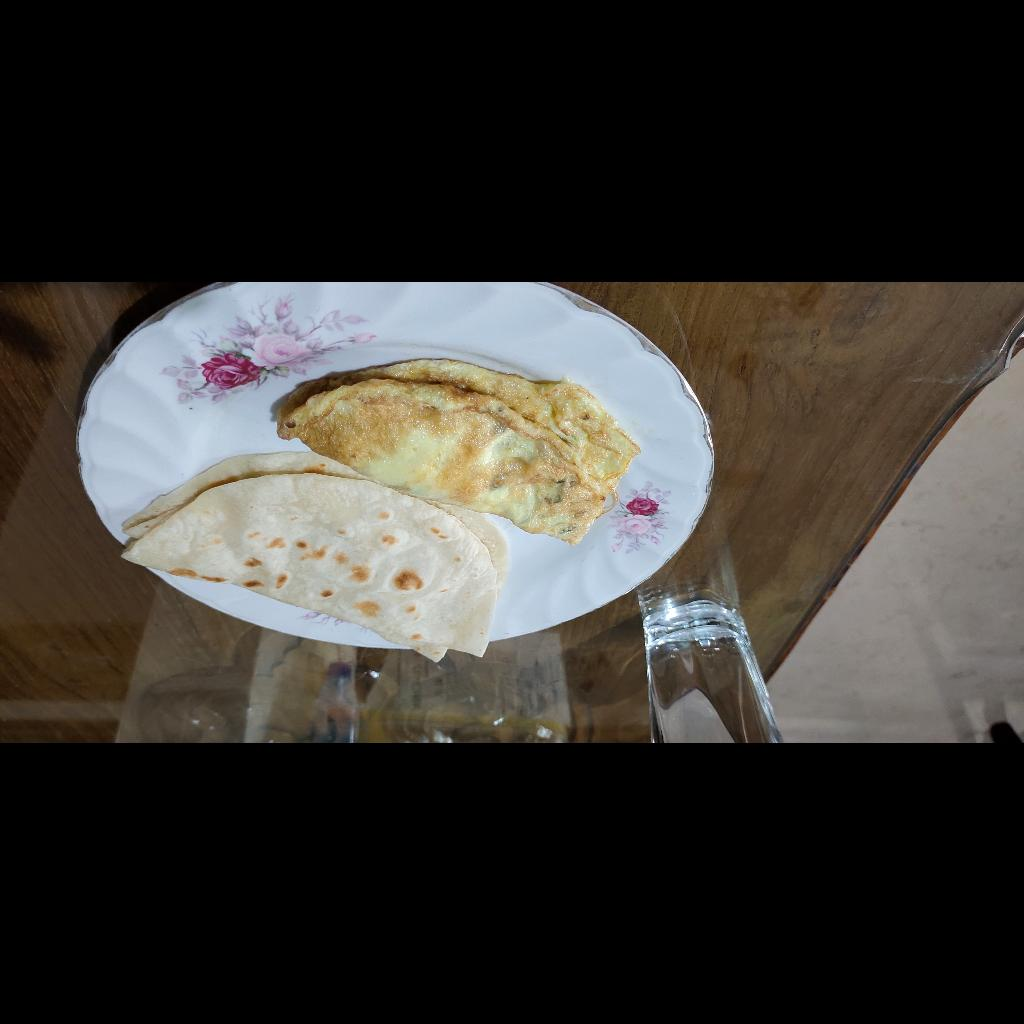egg-poached: (379, 478, 745, 666)
ruti: (517, 360, 907, 576)
